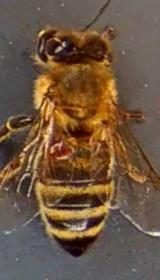varroa_mite: (40, 129, 80, 166)
